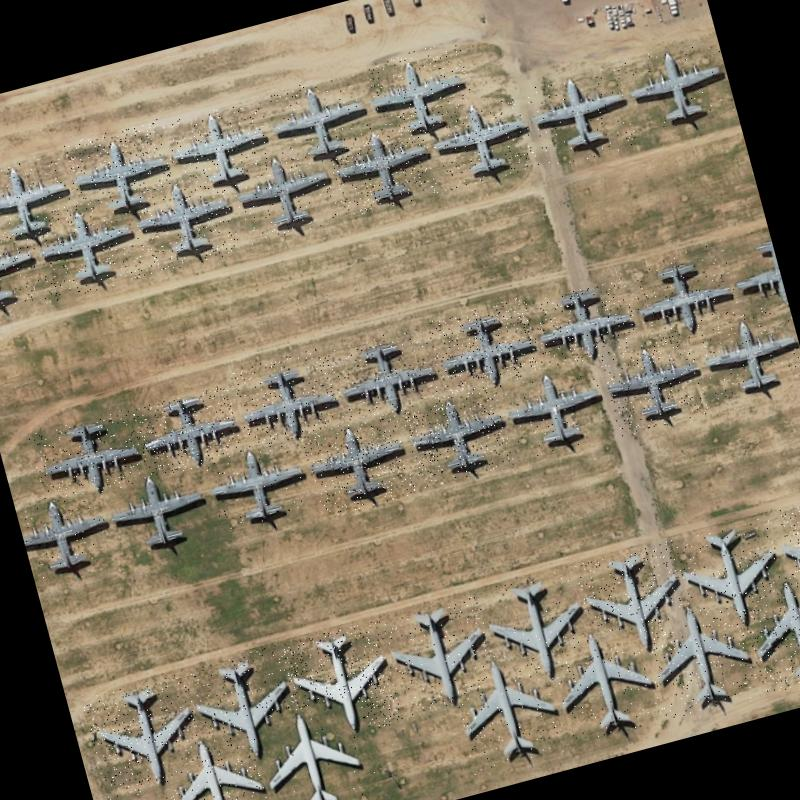A14: (80, 671, 211, 800), (474, 564, 601, 694), (542, 614, 668, 744), (574, 538, 700, 667), (375, 592, 504, 718), (668, 516, 794, 642), (279, 619, 403, 747), (642, 589, 760, 719), (187, 644, 307, 768), (448, 648, 566, 774), (250, 694, 381, 800), (150, 722, 276, 800), (736, 563, 800, 694), (777, 493, 800, 612)
A2: (424, 295, 547, 406), (228, 344, 347, 457), (26, 190, 146, 302), (62, 118, 180, 230), (125, 167, 241, 276), (326, 324, 444, 430), (159, 97, 280, 200), (364, 39, 480, 146), (301, 412, 417, 519), (523, 64, 639, 170), (28, 408, 148, 510), (400, 382, 514, 489), (625, 242, 742, 346), (598, 329, 710, 437), (620, 34, 736, 135), (266, 68, 380, 170), (500, 358, 614, 460), (127, 384, 244, 481), (228, 147, 340, 245), (102, 468, 214, 566), (326, 122, 440, 218), (695, 300, 800, 404), (427, 96, 540, 192), (528, 276, 641, 372), (204, 439, 312, 532), (17, 488, 118, 580), (0, 151, 76, 252), (0, 217, 50, 322)
